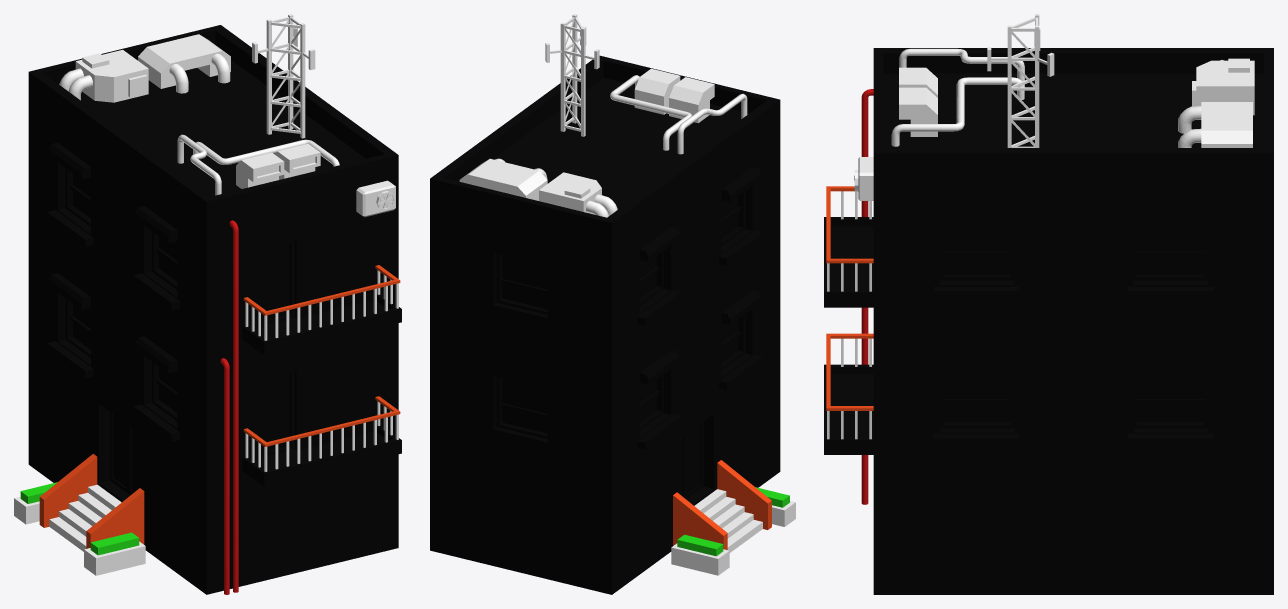
The model's file is Building_02.FBX.
The picture shows the model from 3 angles, left to right: view 1: azimuth 30°, elevation 25°; view 2: azimuth 150°, elevation 25°; view 3: azimuth 270°, elevation 25°; orthographic projection. The views are drawn at different scales.
Visible parts, largest first — view 1: Buildings_02; view 2: Buildings_02; view 3: Buildings_02.
Boxes of the visible parts, x1,y1,x2,y2 form: Buildings_02: (14, 14, 401, 594); Buildings_02: (430, 14, 795, 594); Buildings_02: (824, 14, 1273, 594).
Bounding box in the file's own units: 16.23 × 28.69 × 21.3.
